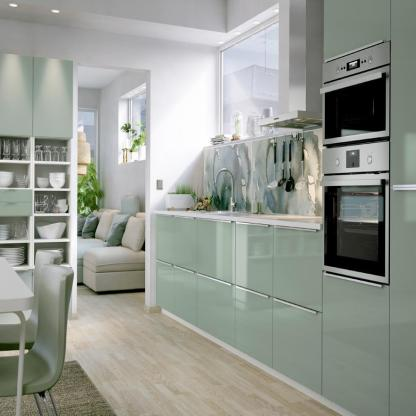Sofa: (77, 208, 147, 293)
